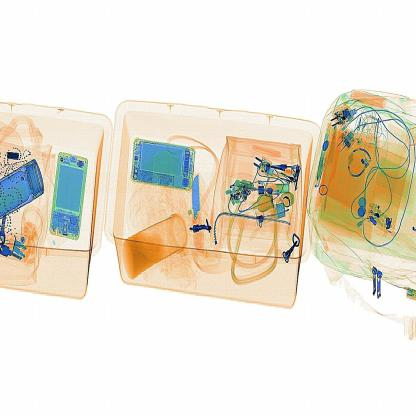wrench: (184, 166, 214, 255)
